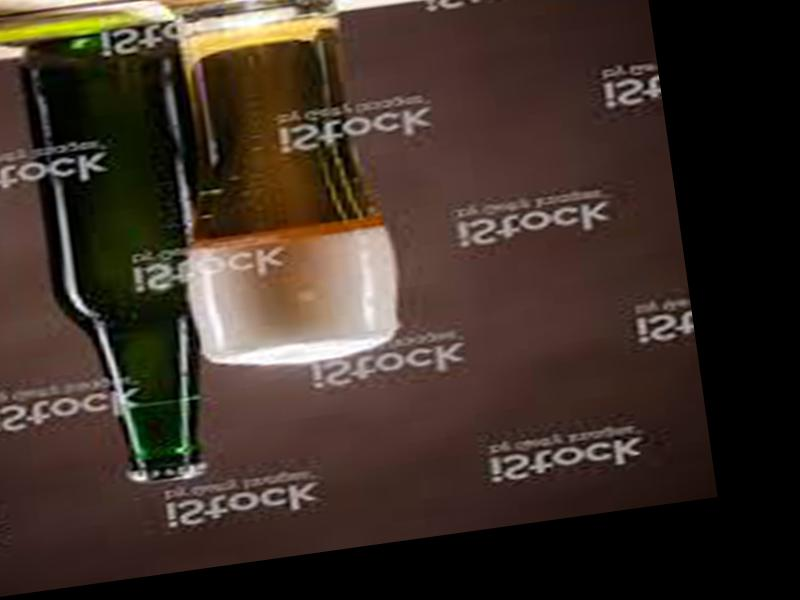Beer: (14, 19, 242, 493)
